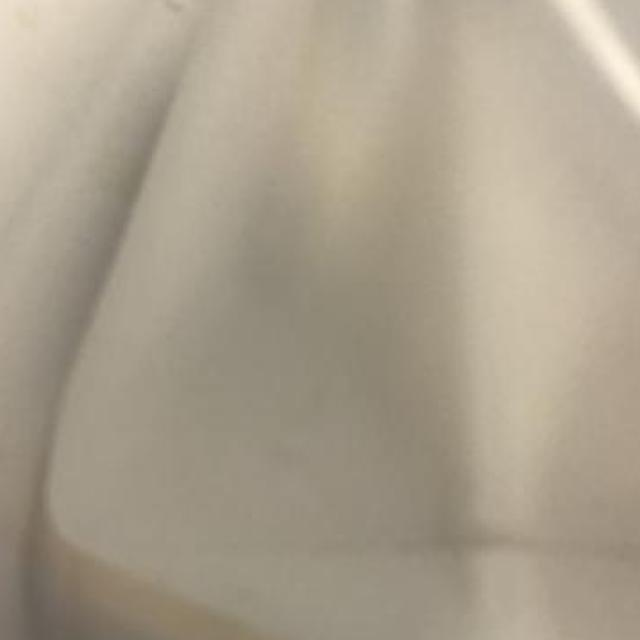organic: (1, 14, 625, 618)
